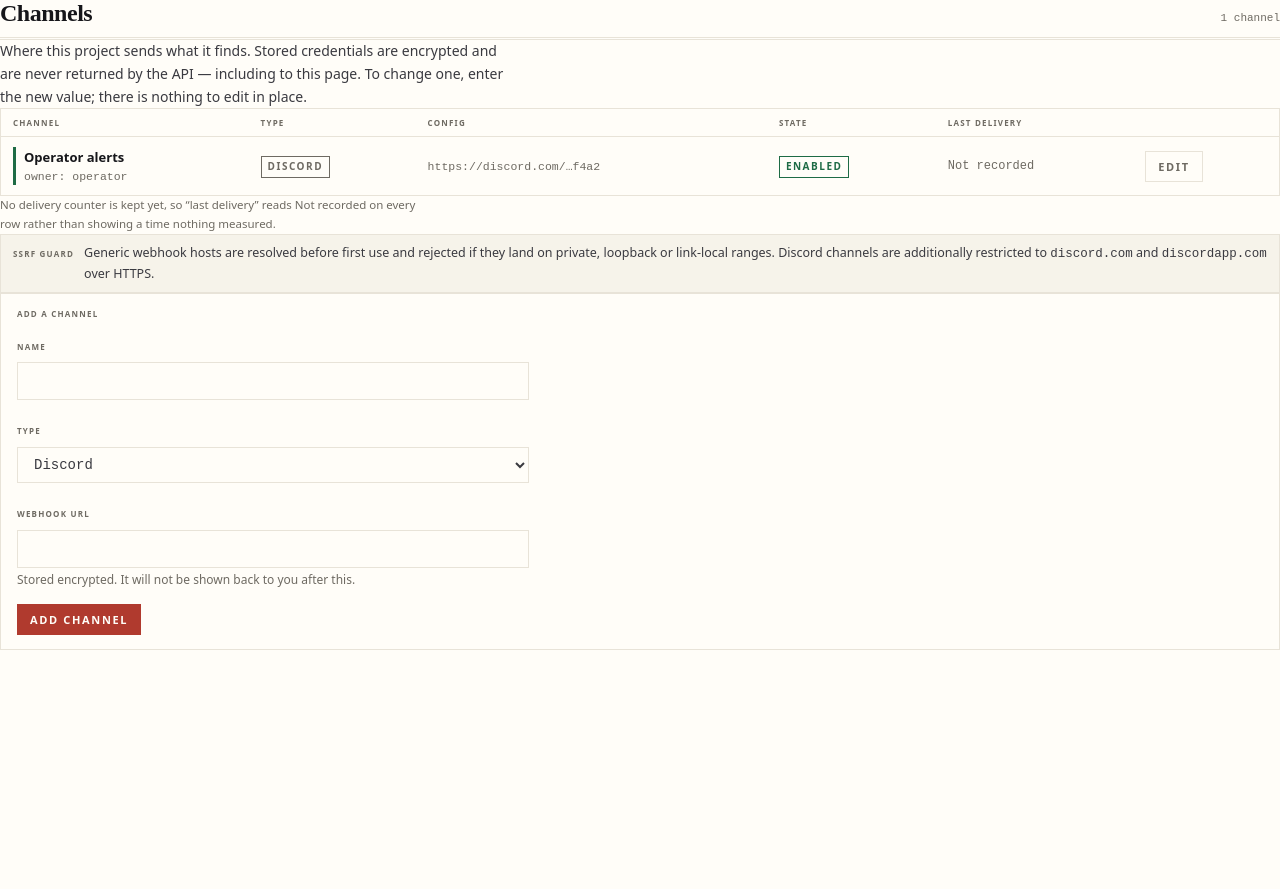
AdminChannelsPage › tags the stored credential rather than reading it back, and never shows a full URL
Expected: the text "Operator alerts" is shown, [24, 148, 128, 168]
Click the button with aria-label "Edit routing: Operator alerts" at [1174, 166], box [1145, 151, 1203, 182]
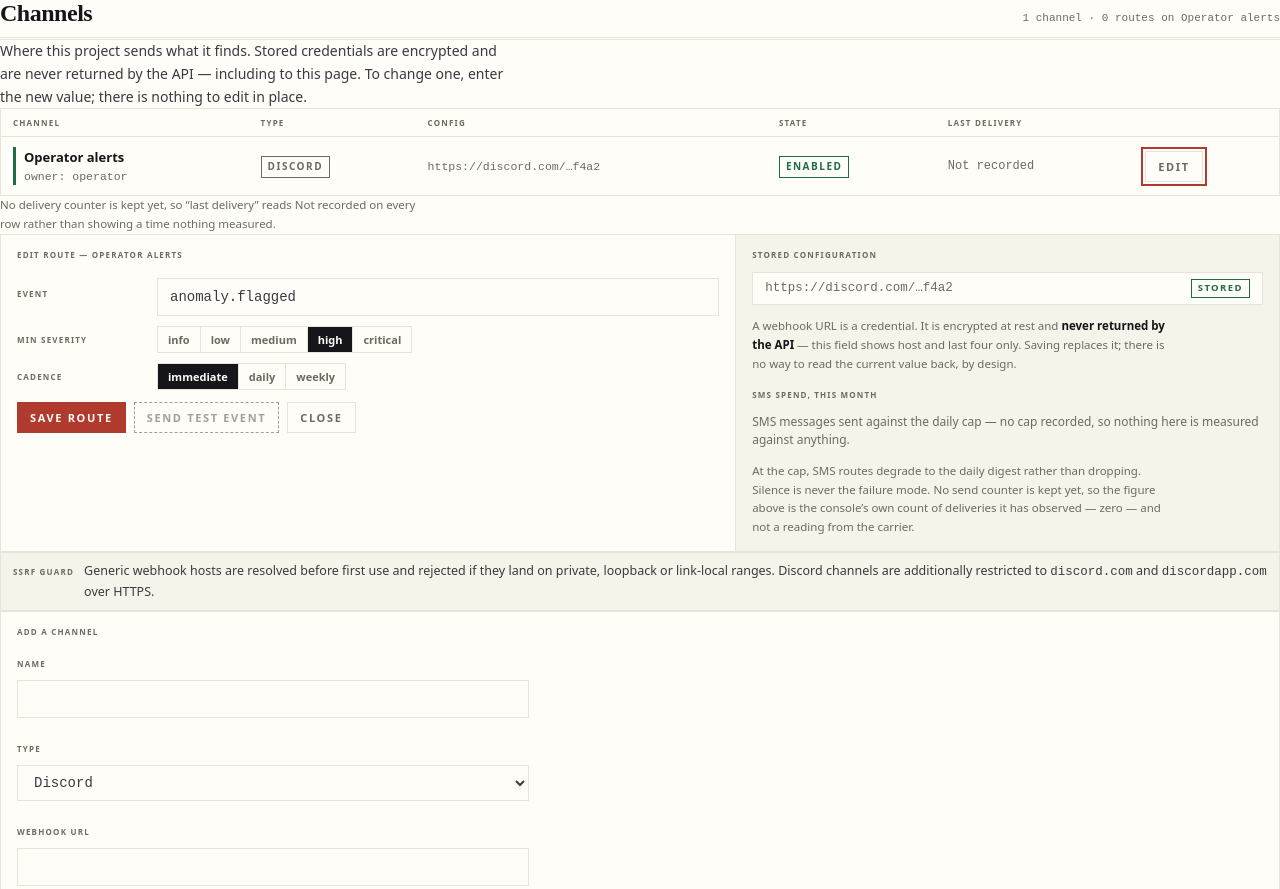
Expected: the text "Stored" is shown, [1191, 279, 1250, 298]
